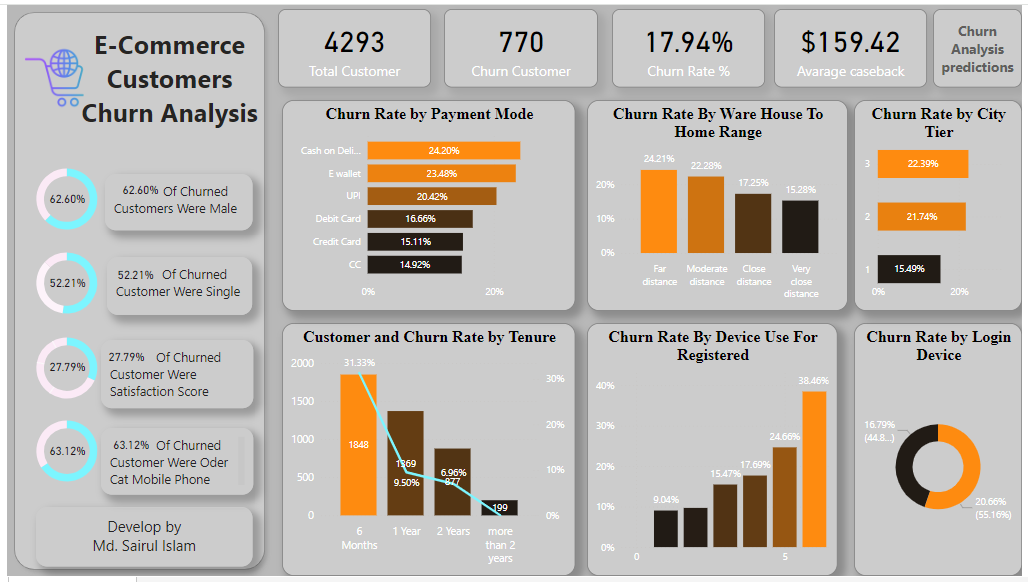

What the dashboard file says about the page in this screenshot:
{"tool":"powerbi","page":{"name":"Churn Analysis","canvas":[1280,720],"ordinal":0},"visuals":[{"type":"lineStackedColumnComboChart","title":"Customer and Churn Rate by Tenure","fields":{"Category":["db_churn ecommerce_data.TenureRange"],"Y":["_MeasureTable.Total Customer"],"Y2":["_MeasureTable.Charn Rate %"]},"box":[347,401.1,369.8,318.6],"z":0},{"type":"barChart","title":"Churn Rate by Payment Mode","fields":{"Y":["_MeasureTable.Charn Rate %"],"Category":["db_churn ecommerce_data.PreferredPaymentMode"]},"box":[347,119.5,369.8,266],"z":1000},{"type":"card","fields":{"Values":["_MeasureTable.Total Customer"]},"box":[341.6,5.7,192.8,99.2],"z":2000},{"type":"shape","box":[0,0,334.2,721.1],"z":3000},{"type":"textbox","box":[87.9,21.3,233.9,165.8],"z":4000},{"type":"image","box":[17.1,18.5,83.9,146.5],"z":5000},{"type":"donutChart","fields":{"Category":["db_churn ecommerce_data.Gender"],"Y":["_MeasureTable.Total Churn Customer"]},"box":[0,191.2,150.9,106],"z":6000},{"type":"card","fields":{"Values":["_MeasureTable.ChurnMalePercentage"]},"box":[37.3,225.5,76.2,38.8],"z":7000},{"type":"textbox","box":[123.8,213.1,185.8,70.6],"z":8000},{"type":"donutChart","fields":{"Y":["_MeasureTable.Total Churn Customer"],"Category":["db_churn ecommerce_data.MaritalStatus"]},"box":[0,297.2,150.9,106],"z":9000},{"type":"card","fields":{"Values":["_MeasureTable.ChurnSinglePercentage"]},"box":[37.3,331.6,76.2,38.8],"z":10000},{"type":"textbox","box":[118.1,421.9,191.5,86.4],"z":11000},{"type":"textbox","box":[126.6,317.2,183.5,72.5],"z":12000},{"type":"donutChart","fields":{"Y":["_MeasureTable.Total Churn Customer"],"Category":["db_churn ecommerce_data.SatisfactionScore"]},"box":[0,404.8,150.9,106],"z":13000},{"type":"donutChart","fields":{"Y":["_MeasureTable.Total Churn Customer"],"Category":["db_churn ecommerce_data.PreferredLoginDevice"]},"box":[0,509.3,150.9,106],"z":14000},{"type":"card","fields":{"Values":["_MeasureTable.ChurnSatisfactionScorePercentage"]},"box":[37.4,437.8,76.3,38.9],"z":15000},{"type":"textbox","box":[118.1,532.8,191.5,83.5],"z":16000},{"type":"card","fields":{"Values":["_MeasureTable.ChurnDivacesPercentage"]},"box":[37.4,542.9,76.3,38.9],"z":17000},{"type":"card","fields":{"Values":["_MeasureTable.ChurnMalePercentage"]},"box":[129.6,214.6,76.3,38.9],"z":18000},{"type":"card","fields":{"Values":["_MeasureTable.ChurnSinglePercentage"]},"box":[123.8,321.1,76.3,38.9],"z":19000},{"type":"card","fields":{"Values":["_MeasureTable.ChurnSatisfactionScorePercentage"]},"box":[112.3,424.8,76.3,38.9],"z":20000},{"type":"card","fields":{"Values":["_MeasureTable.ChurnDivacesPercentage"]},"box":[121,535.7,70.6,38.9],"z":21000},{"type":"textbox","box":[37,632.9,273.1,75.4],"z":22000},{"type":"card","fields":{"Values":["_MeasureTable.Total Churn Customer"]},"box":[551.3,5.7,194.2,99.2],"z":23000},{"type":"card","fields":{"Values":["_MeasureTable.Churn Rate %"]},"box":[762.5,5.7,192.8,99.2],"z":24000},{"type":"card","fields":{"Values":["_MeasureTable.Avarage caseback"]},"box":[966.6,5.7,192.8,99.2],"z":25000},{"type":"columnChart","title":"Churn Rate By Ware House To Home Range","fields":{"Category":["db_churn ecommerce_data.warehousetohomerange"],"Y":["_MeasureTable.Churn Rate %"]},"box":[731,119.5,328.5,266],"z":26000},{"type":"donutChart","title":"Churn Rate by Login Device","fields":{"Category":["db_churn ecommerce_data.PreferredLoginDevice"],"Y":["_MeasureTable.Churn Rate %"]},"box":[1068.1,401.1,211.9,318.6],"z":27000},{"type":"barChart","title":"Churn Rate by City Tier","fields":{"Category":["db_churn ecommerce_data.CityTier"],"Y":["_MeasureTable.Churn Rate %"]},"box":[1068.1,119.5,211.9,266],"z":28000},{"type":"columnChart","title":"Churn Rate By Device Use For Registered","fields":{"Y":["_MeasureTable.Churn Rate %"],"Category":["db_churn ecommerce_data.NumberOfDeviceRegistered"]},"box":[731,401.1,315.7,318.6],"z":29000},{"type":"actionButton","box":[1167.9,5.7,112,99.2],"z":29001}]}

Visuals, with their boxes in screenshot pixels (x1, y1, x2, y2), scaled from the page's 1280x720 canvas onto the 1028x582 screenshot:
"Customer and Churn Rate by Tenure" lineStackedColumnComboChart: (left=279, top=324, right=576, bottom=581)
"Churn Rate by Payment Mode" barChart: (left=279, top=97, right=576, bottom=312)
card - _MeasureTable.Total Customer: (left=274, top=5, right=429, bottom=85)
shape: (left=0, top=0, right=268, bottom=581)
textbox: (left=71, top=17, right=258, bottom=151)
image: (left=14, top=15, right=81, bottom=133)
donutChart - db_churn ecommerce_data.Gender x _MeasureTable.Total Churn Customer: (left=0, top=155, right=121, bottom=240)
card - _MeasureTable.ChurnMalePercentage: (left=30, top=182, right=91, bottom=214)
textbox: (left=99, top=172, right=249, bottom=229)
donutChart - _MeasureTable.Total Churn Customer x db_churn ecommerce_data.MaritalStatus: (left=0, top=240, right=121, bottom=326)
card - _MeasureTable.ChurnSinglePercentage: (left=30, top=268, right=91, bottom=299)
textbox: (left=95, top=341, right=249, bottom=411)
textbox: (left=102, top=256, right=249, bottom=315)
donutChart - _MeasureTable.Total Churn Customer x db_churn ecommerce_data.SatisfactionScore: (left=0, top=327, right=121, bottom=413)
donutChart - _MeasureTable.Total Churn Customer x db_churn ecommerce_data.PreferredLoginDevice: (left=0, top=412, right=121, bottom=497)
card - _MeasureTable.ChurnSatisfactionScorePercentage: (left=30, top=354, right=91, bottom=385)
textbox: (left=95, top=431, right=249, bottom=498)
card - _MeasureTable.ChurnDivacesPercentage: (left=30, top=439, right=91, bottom=470)
card - _MeasureTable.ChurnMalePercentage: (left=104, top=173, right=165, bottom=205)
card - _MeasureTable.ChurnSinglePercentage: (left=99, top=260, right=161, bottom=291)
card - _MeasureTable.ChurnSatisfactionScorePercentage: (left=90, top=343, right=151, bottom=375)
card - _MeasureTable.ChurnDivacesPercentage: (left=97, top=433, right=154, bottom=464)
textbox: (left=30, top=512, right=249, bottom=573)
card - _MeasureTable.Total Churn Customer: (left=443, top=5, right=599, bottom=85)
card - _MeasureTable.Churn Rate %: (left=612, top=5, right=767, bottom=85)
card - _MeasureTable.Avarage caseback: (left=776, top=5, right=931, bottom=85)
"Churn Rate By Ware House To Home Range" columnChart: (left=587, top=97, right=851, bottom=312)
"Churn Rate by Login Device" donutChart: (left=858, top=324, right=1027, bottom=581)
"Churn Rate by City Tier" barChart: (left=858, top=97, right=1027, bottom=312)
"Churn Rate By Device Use For Registered" columnChart: (left=587, top=324, right=841, bottom=581)
actionButton: (left=938, top=5, right=1027, bottom=85)
